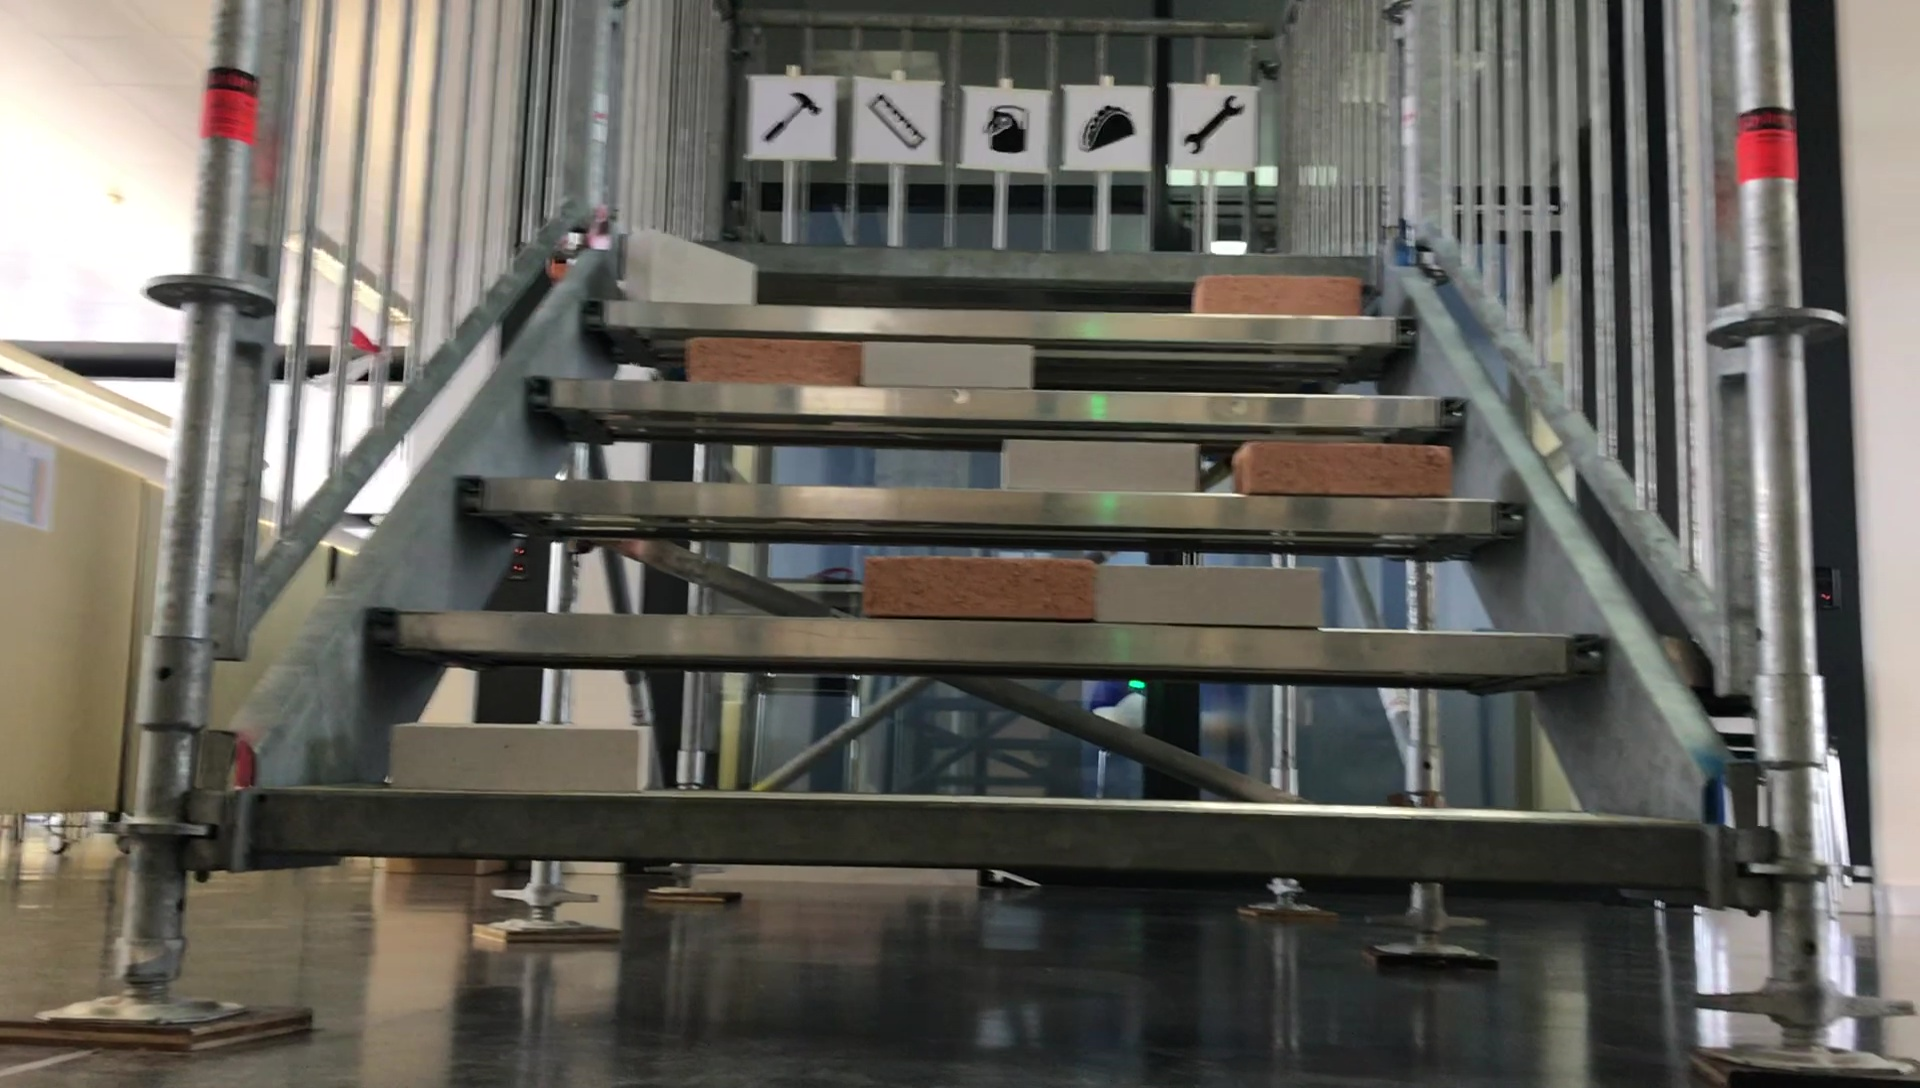brick: (386, 724, 650, 793), (1083, 560, 1338, 630), (858, 558, 1077, 621), (996, 434, 1200, 495), (1236, 442, 1451, 499), (628, 229, 757, 305), (857, 339, 1043, 389), (678, 339, 858, 385), (1189, 274, 1369, 317)
bucket: (982, 102, 1030, 156)
hammer: (760, 86, 818, 141)
ruler: (866, 88, 931, 152)
stairs: (146, 0, 1822, 1070)
steps: (293, 231, 1770, 903)
taco: (1080, 99, 1135, 152)
wrench: (1185, 95, 1250, 153)
